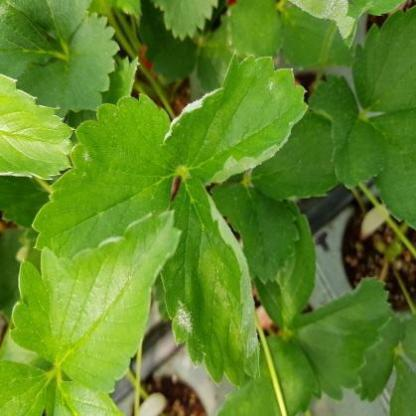Strawberry_Powdery_Mildew_Leaf: (31, 93, 178, 259), (158, 176, 261, 390), (160, 50, 310, 186)
